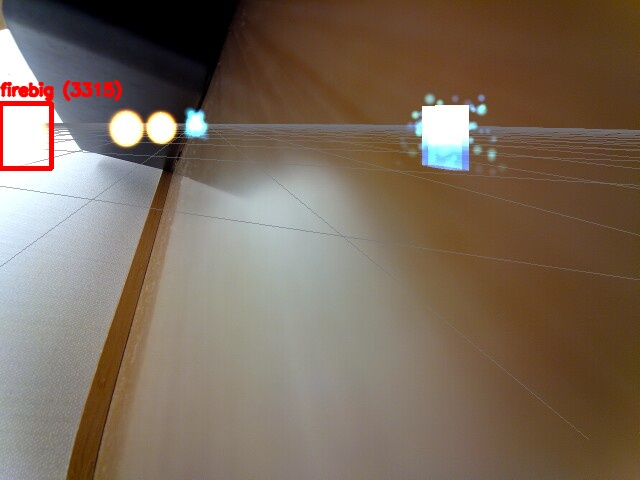firebig: (0, 103, 51, 168)
